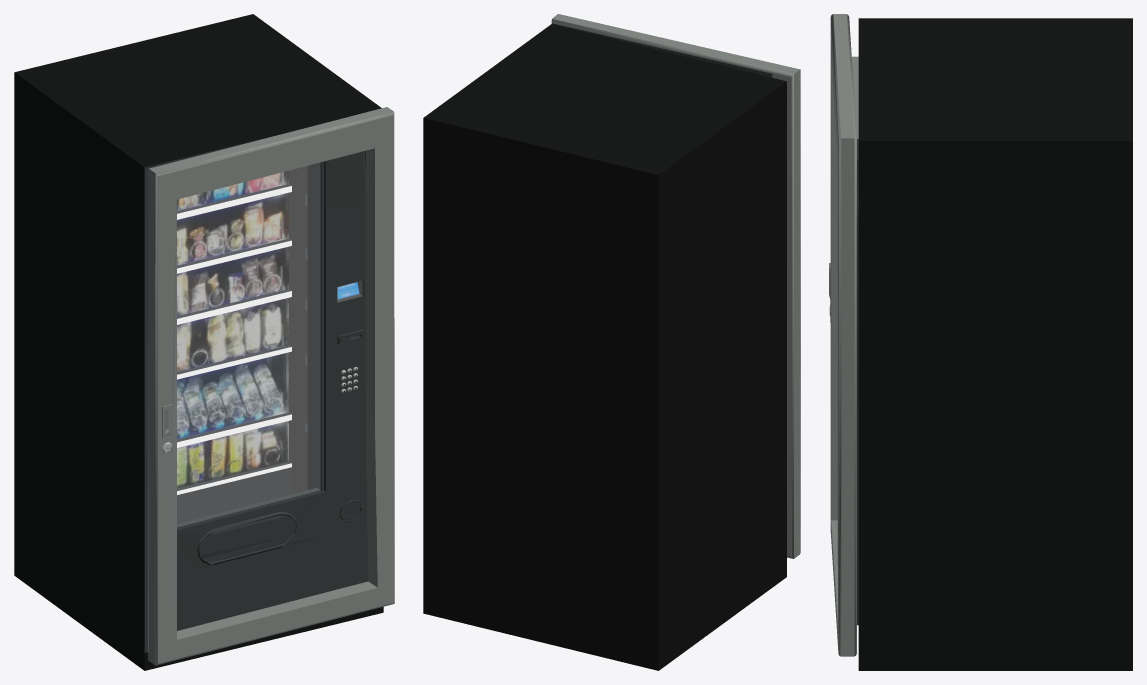
Rendered from vending.gltf.
3 renders of one model, left to right at view 1: azimuth 30°, elevation 25°; view 2: azimuth 150°, elevation 25°; view 3: azimuth 270°, elevation 25°, orthographic. The views are drawn at different scales.
Parts seen in each view (by area): view 1: body; view 2: body; view 3: body.
Part boxes in pixels (box(x1,y1,x2,y2)): body: box(14, 14, 394, 670); body: box(423, 14, 800, 670); body: box(829, 14, 1132, 670).
Size of the model in its own units: 0.9507 by 1.9 by 0.98.
Materials: 16 (2 with a texture image).
